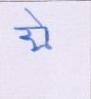o_matra: (37, 16, 54, 48)
